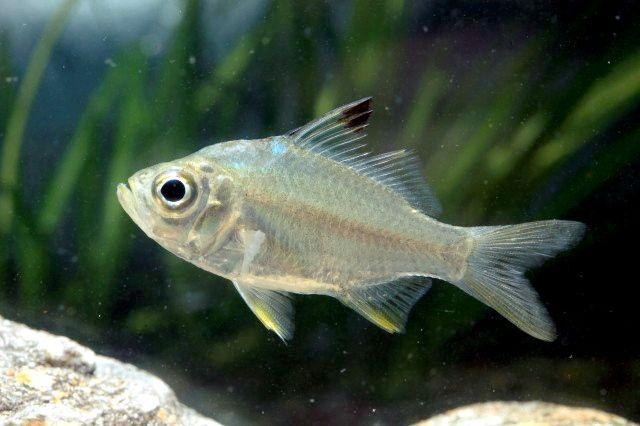Glass Perchlet: (116, 94, 586, 351)
